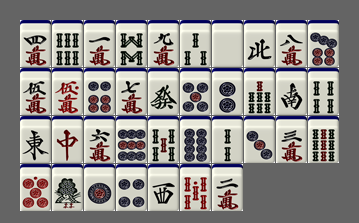0m: (52, 68, 83, 115)
0p: (20, 164, 51, 211)
0s: (180, 164, 211, 211)
1m: (84, 20, 115, 67)
1p: (84, 164, 115, 211)
1s: (52, 164, 83, 211)
1z: (20, 116, 51, 163)
2m: (212, 164, 243, 211)
2p: (212, 68, 243, 115)
2s: (212, 116, 243, 163)
2z: (276, 68, 307, 115)
3m: (276, 116, 307, 163)
3p: (244, 116, 275, 163)
3s: (180, 20, 211, 67)
3z: (148, 164, 179, 211)
4m: (20, 20, 51, 67)
4p: (116, 164, 147, 211)
4s: (308, 68, 339, 115)
4z: (244, 20, 275, 67)
5m: (20, 68, 51, 115)
5p: (180, 68, 211, 115)
5s: (148, 116, 179, 163)
5z: (212, 20, 243, 67)
6m: (84, 116, 115, 163)
6p: (84, 68, 115, 115)
6s: (52, 20, 83, 67)
6z: (148, 68, 179, 115)
7m: (116, 68, 147, 115)
7p: (308, 20, 339, 67)
7s: (244, 68, 275, 115)
7z: (52, 116, 83, 163)
8m: (276, 20, 307, 67)
8p: (180, 116, 211, 163)
8s: (116, 20, 147, 67)
9m: (148, 20, 179, 67)
9p: (116, 116, 147, 163)
9s: (308, 116, 339, 163)
